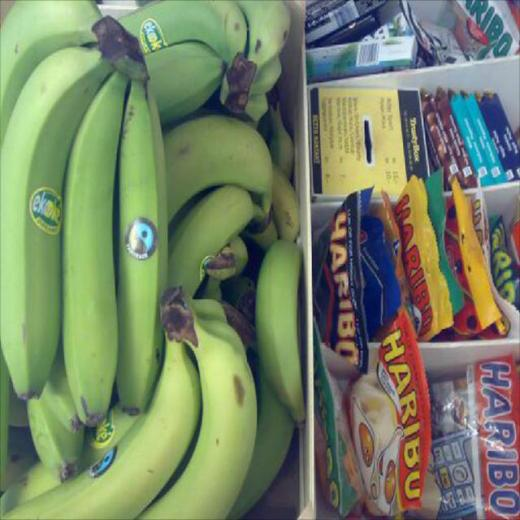Banana: (0, 0, 308, 518), (252, 234, 308, 428)
